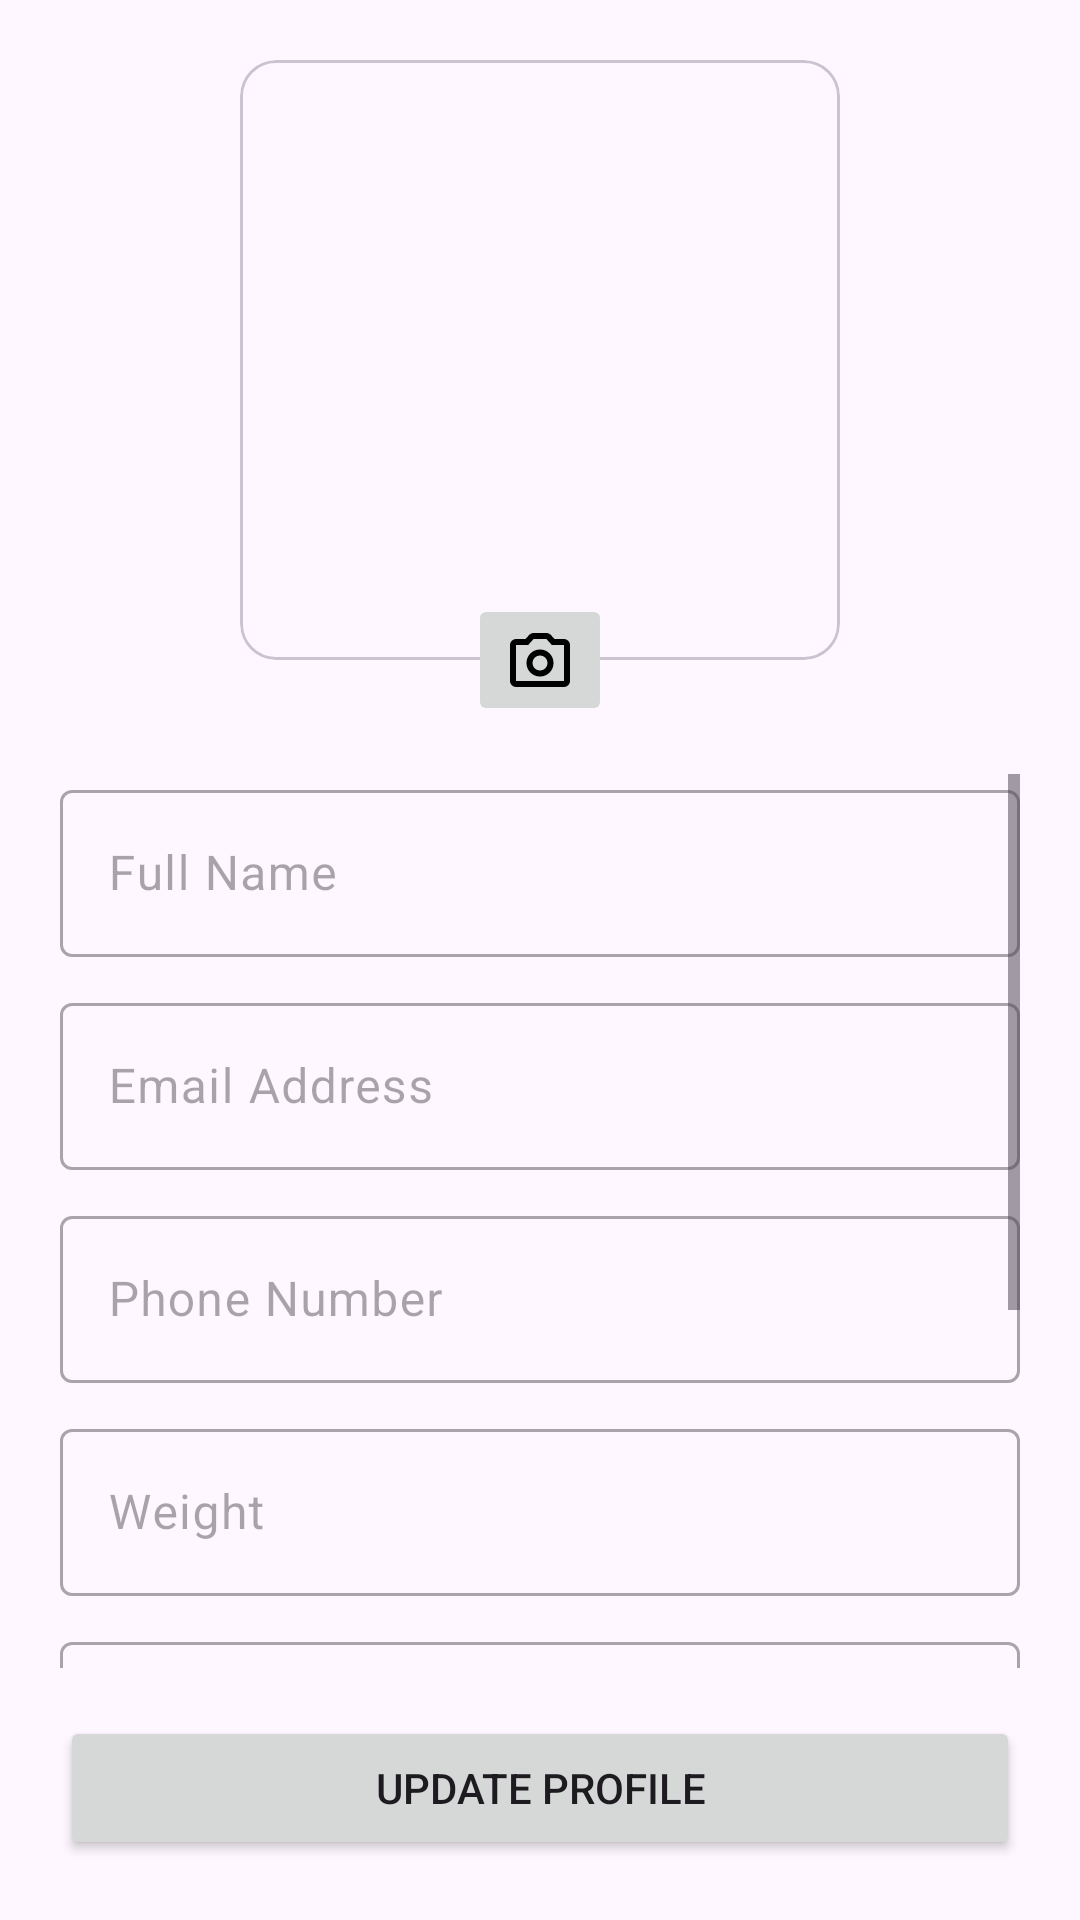

Where to tap for icons on this 1080px×1920px app screen, as point (x, y):
photo camera: point (540, 660)
